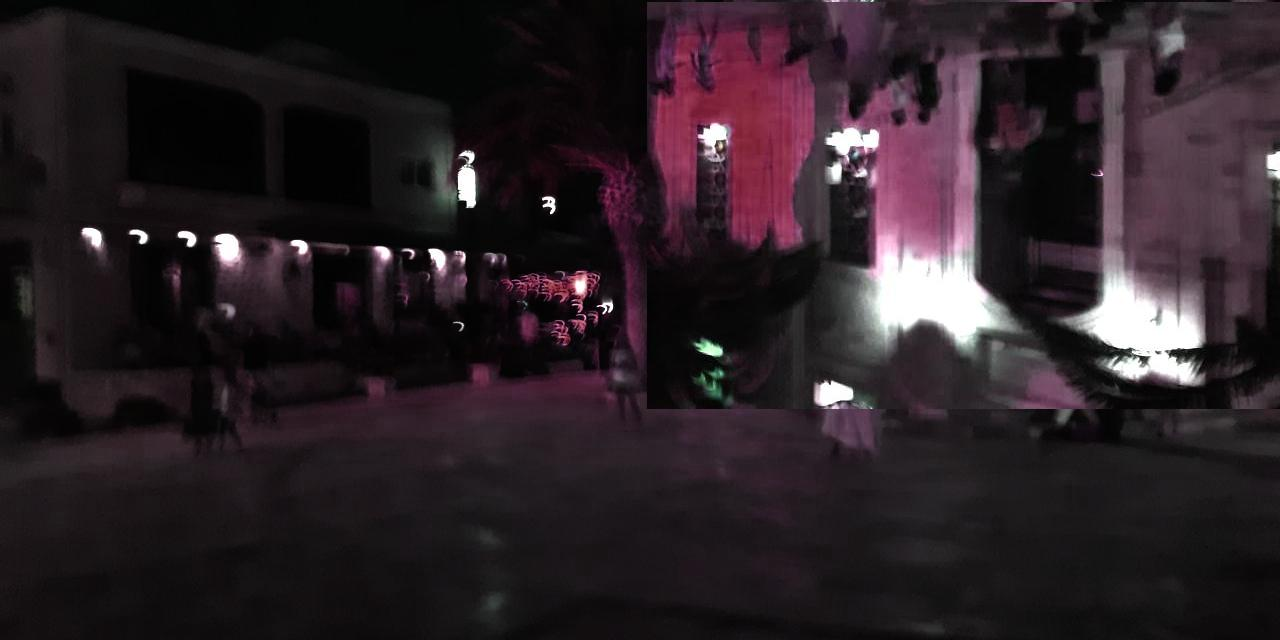Agios Titos: (648, 3, 1280, 410)
